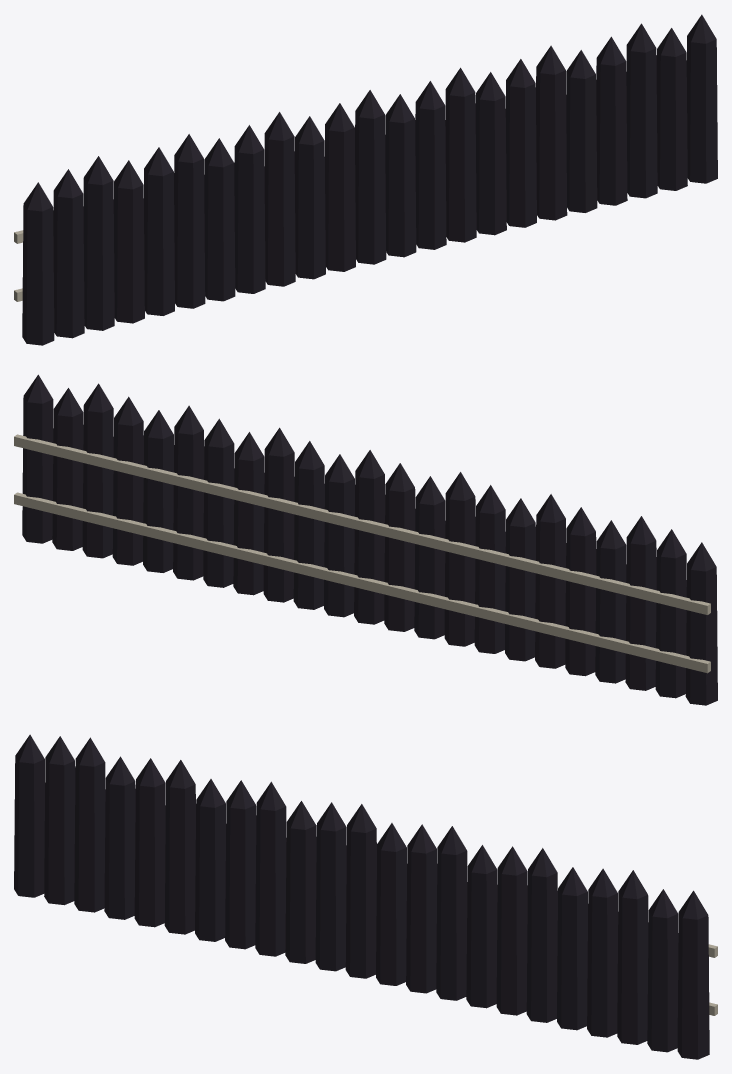
The model's file is horde_wall.glb.
3 renders of one model, top to bottom at view 1: azimuth 30°, elevation 25°; view 2: azimuth 150°, elevation 25°; view 3: azimuth 330°, elevation 25°, orthographic.
Parts seen in each view (by area): view 1: horde_wall; view 2: horde_wall; view 3: horde_wall.
Part boxes in pixels (x1=…): horde_wall: x1=14, y1=14, x2=717, y2=345; horde_wall: x1=14, y1=374, x2=717, y2=705; horde_wall: x1=14, y1=734, x2=717, y2=1059.
Size of the model in its own units: 6.25 by 1.45 by 0.2706.
